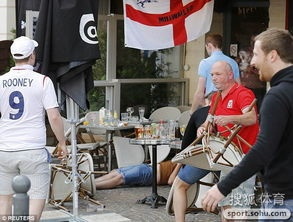fall: (86, 145, 204, 195)
